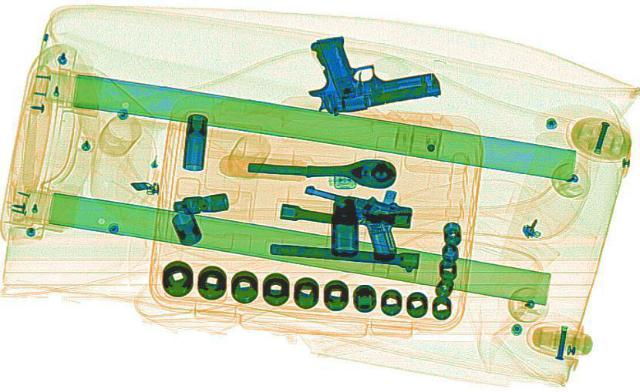Gun: (279, 22, 447, 115), (268, 179, 430, 261)
